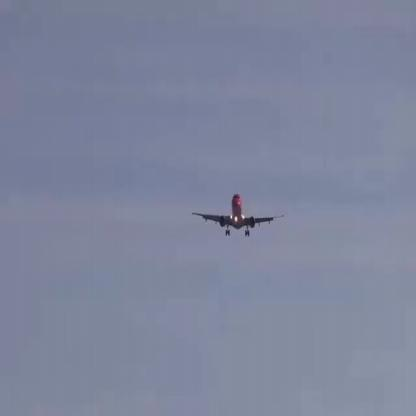CIV_Plane: (190, 194, 284, 236)
